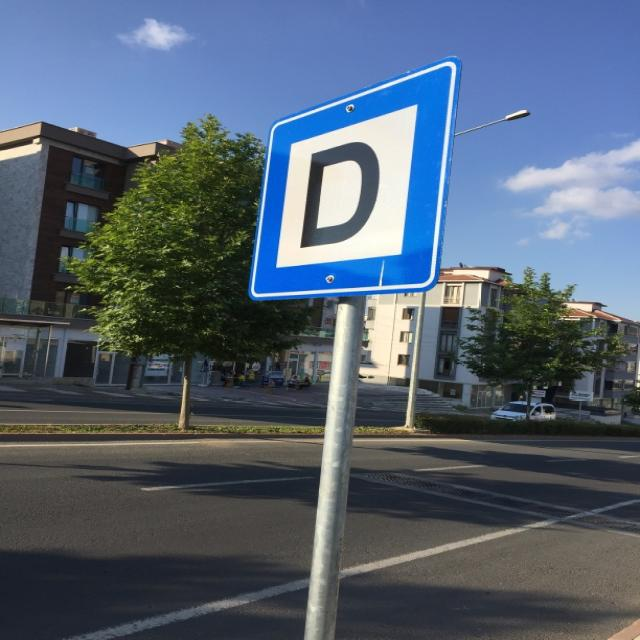durak: (251, 55, 463, 301)
